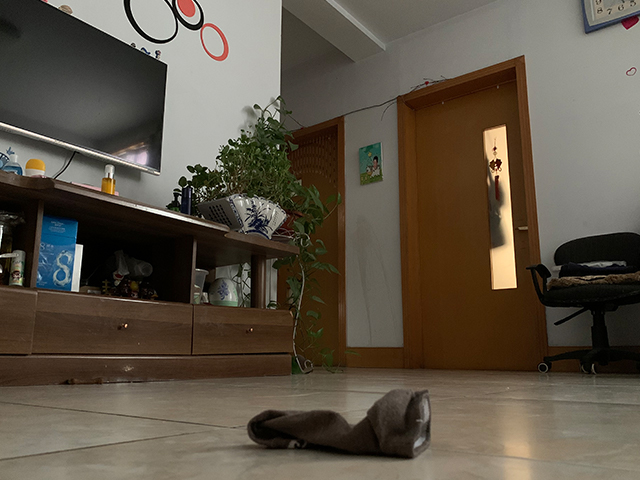cabinet: (1, 168, 304, 378)
socks: (247, 385, 434, 460)
stool: (524, 231, 640, 379)
